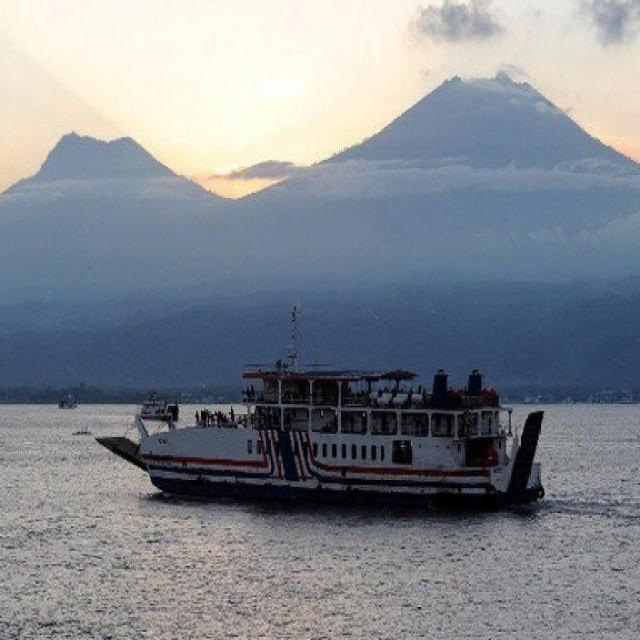passenger ship: (94, 354, 550, 538)
